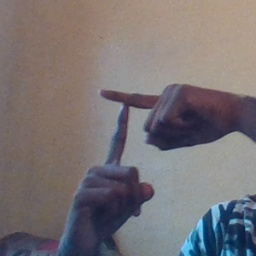T: (75, 81, 178, 186)
